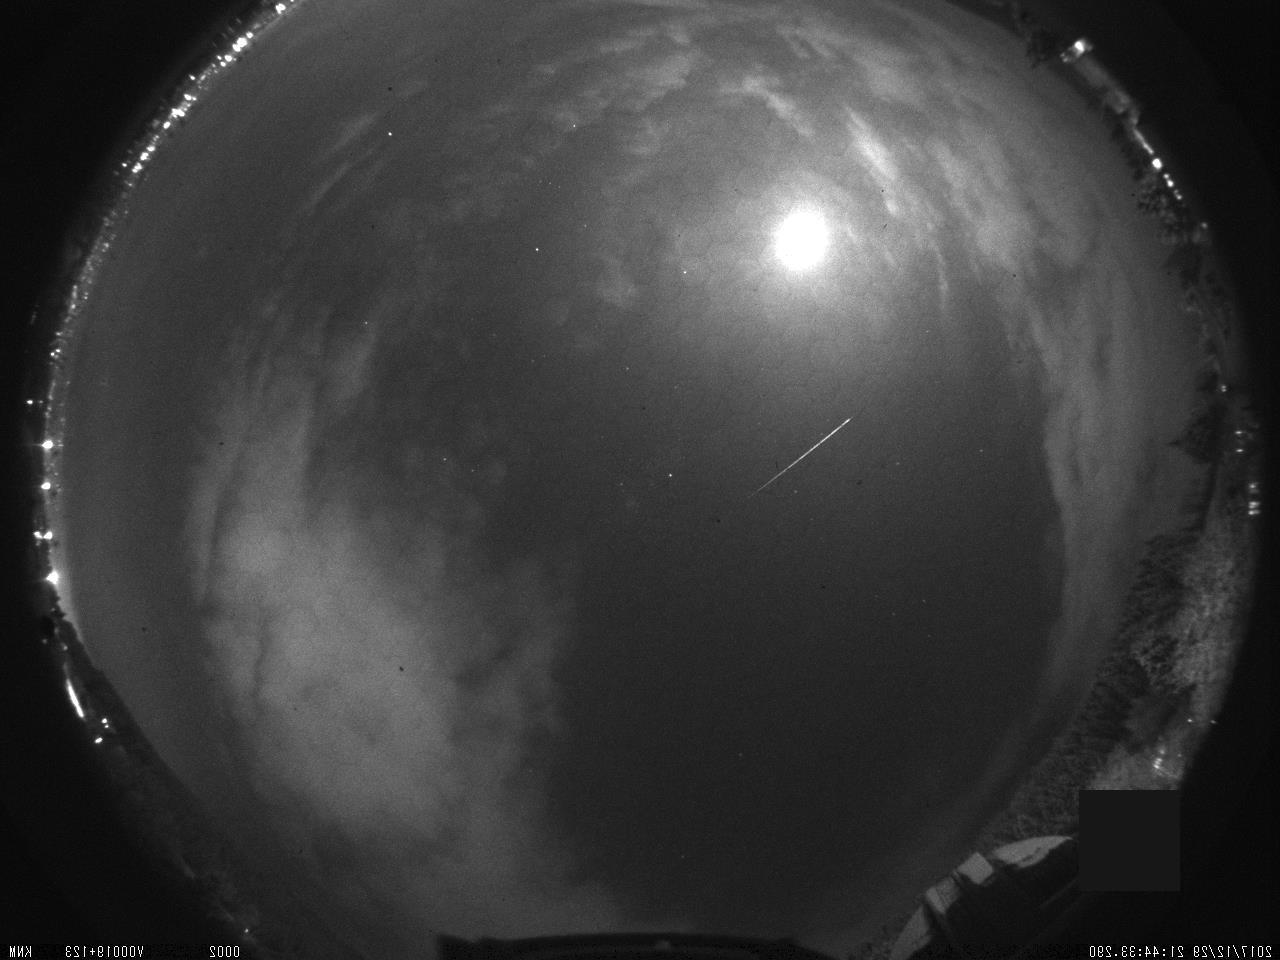meteor: (720, 397, 867, 515)
